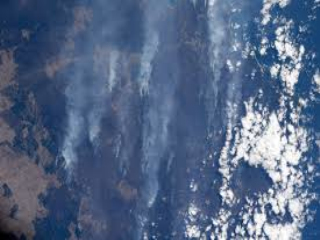smoke: (52, 21, 200, 203)
